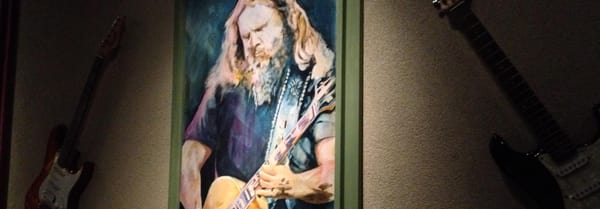pizza: (178, 0, 337, 209)
